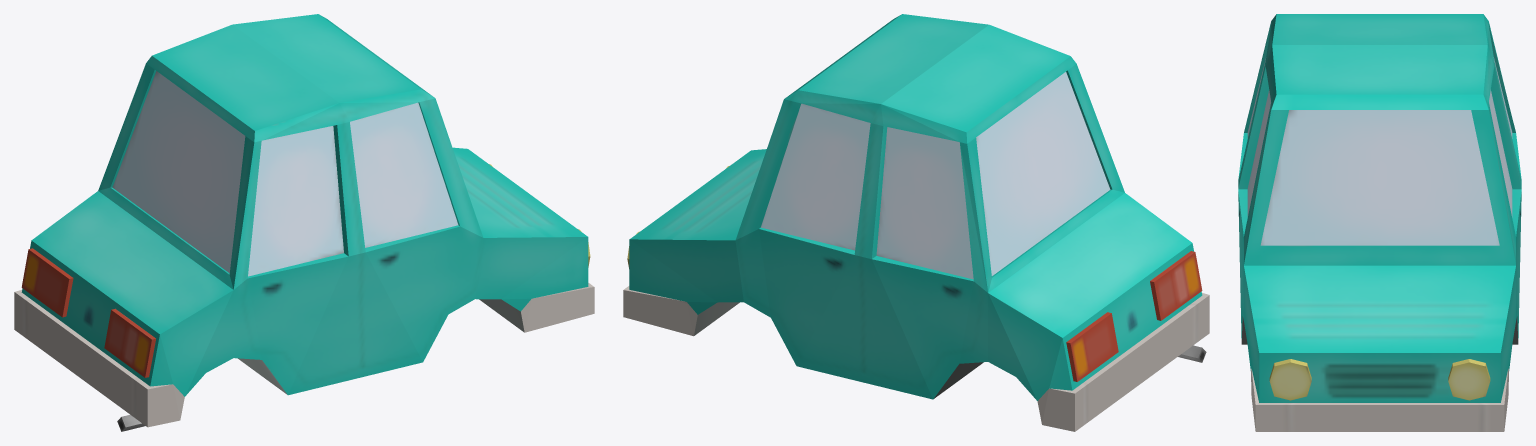
Rendered from co_CarA_02.fbx.
3 renders of one model, left to right at view 1: azimuth 30°, elevation 25°; view 2: azimuth 150°, elevation 25°; view 3: azimuth 270°, elevation 25°, orthographic.
Visible parts, largest first — view 1: CarA_02; view 2: CarA_02; view 3: CarA_02.
Part boxes in pixels (<box>): CarA_02: <box>14,14,594,431</box>; CarA_02: <box>623,14,1209,431</box>; CarA_02: <box>1238,14,1521,431</box>.
Size of the model in its own units: 422 by 243 by 223.
